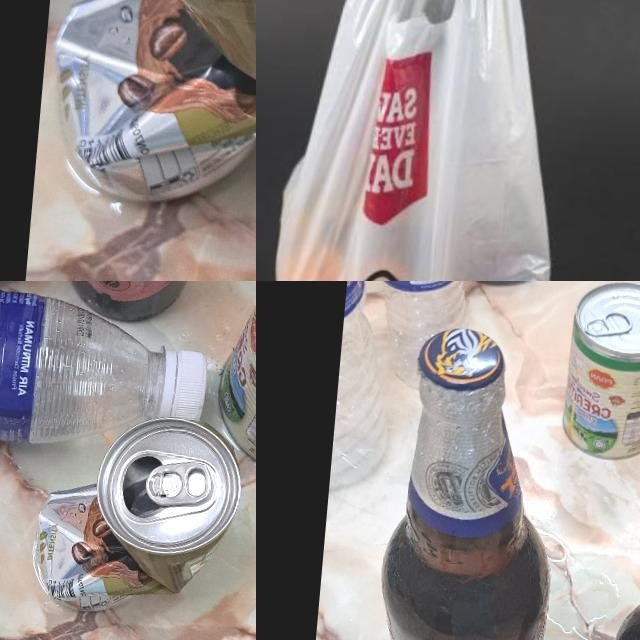aba de lata: (144, 458, 213, 508), (584, 310, 632, 338)
garrafa de vidro: (366, 324, 572, 640), (60, 281, 237, 327)
garrafa plástica: (0, 281, 167, 454), (328, 281, 404, 499), (360, 281, 475, 393)
lata: (26, 406, 247, 622), (41, 0, 256, 220), (563, 281, 640, 464), (210, 281, 256, 479)
sacola plástica: (258, 0, 593, 281)
tampa plástica: (158, 348, 210, 423)
